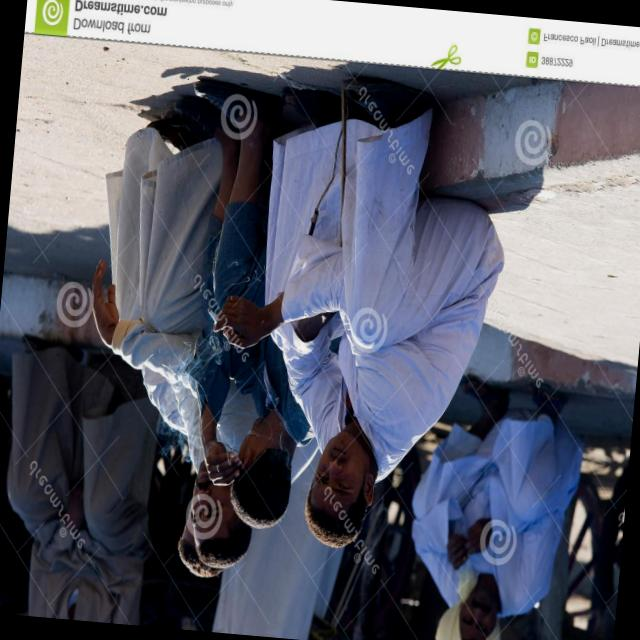smoke: (199, 302, 230, 338)
